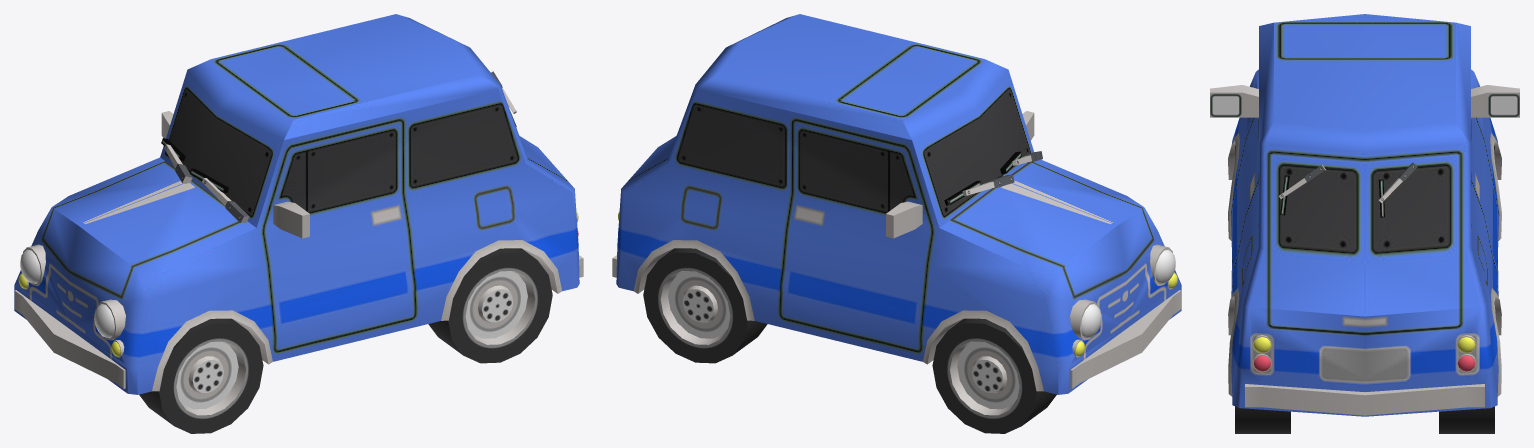
File: sedan_generic_a.glb
3 renders of one model, left to right at view 1: azimuth 30°, elevation 25°; view 2: azimuth 150°, elevation 25°; view 3: azimuth 270°, elevation 25°, orthographic. The views are drawn at different scales.
Parts seen in each view (by area): view 1: Car; view 2: Car; view 3: Car.
Part boxes in pixels (bbox=[...]): Car: bbox=[14, 14, 583, 433]; Car: bbox=[612, 14, 1181, 433]; Car: bbox=[1210, 14, 1519, 433].
Size of the model in its own units: 4.6 by 2.47 by 2.29.
1 material, 1 textured.
